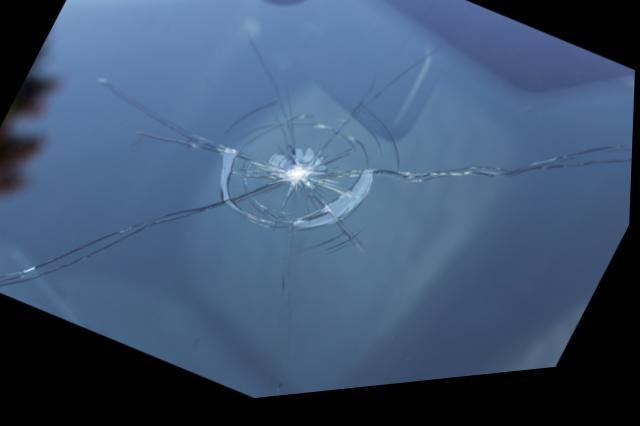glass shatter: (0, 40, 634, 290)
